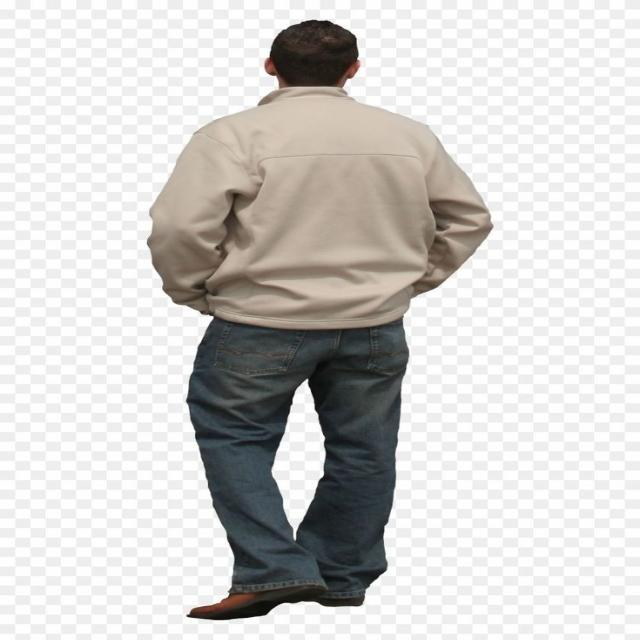person: (145, 18, 494, 620)
